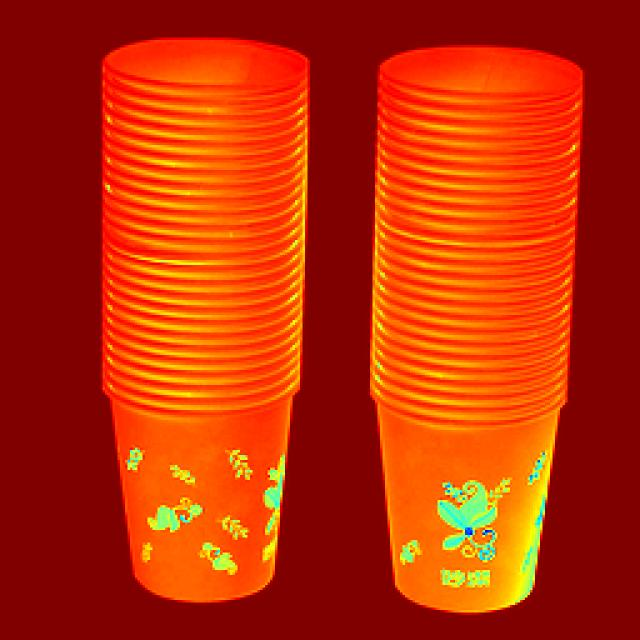Paper Cups: (103, 42, 307, 596), (370, 33, 566, 597)
